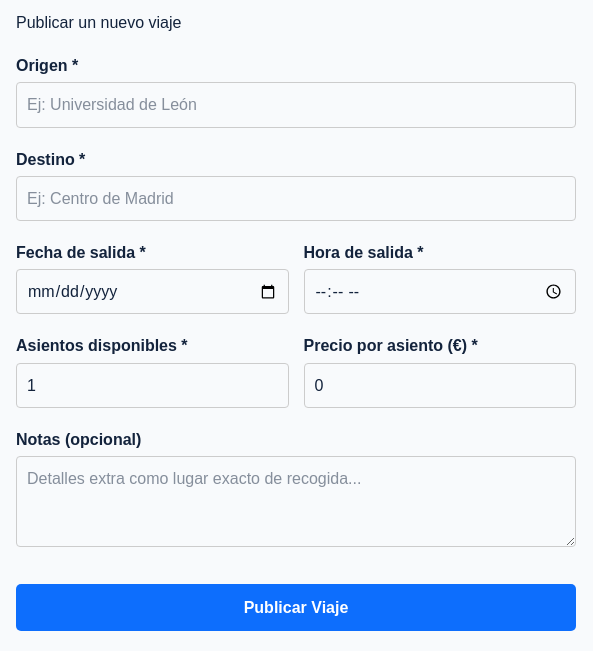
CreateRide › asks the user to log in when there is no session token
Type "Madrid" into the field named "origin" at (296, 105), box [16,82,576,128]
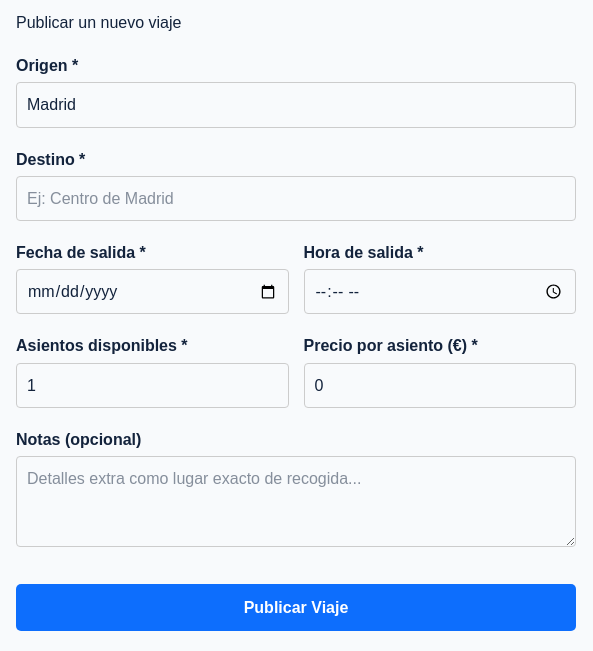
Type "Barcelona" into the field named "destination" at (296, 198), box [16,176,576,221]
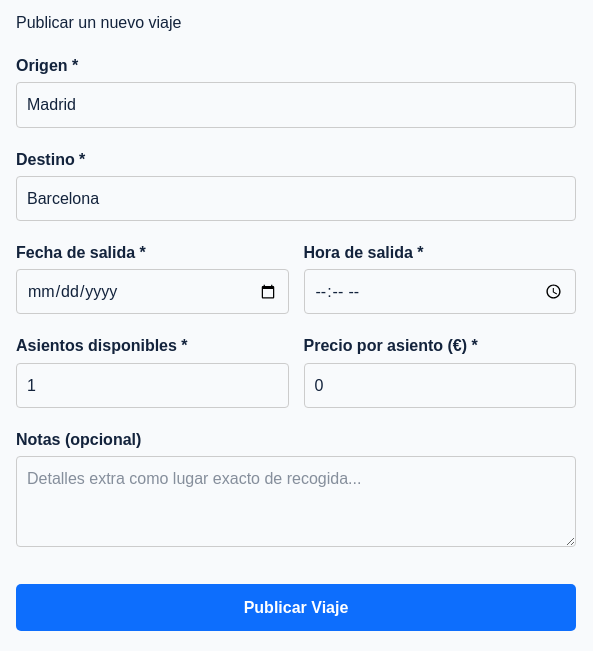
Type "2099-05-20" into the date field named "departureDate" at (152, 292), box [16,269,288,314]
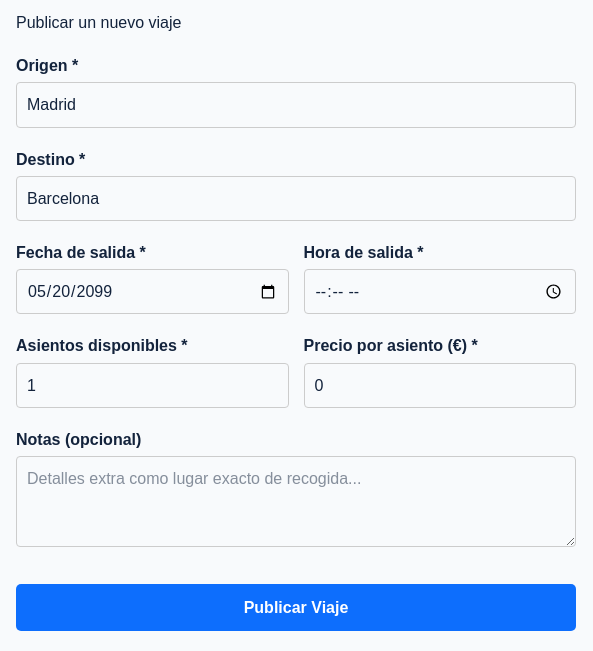
Type "08:30" into the time field named "departureTime" at (440, 292), box [304,269,576,314]
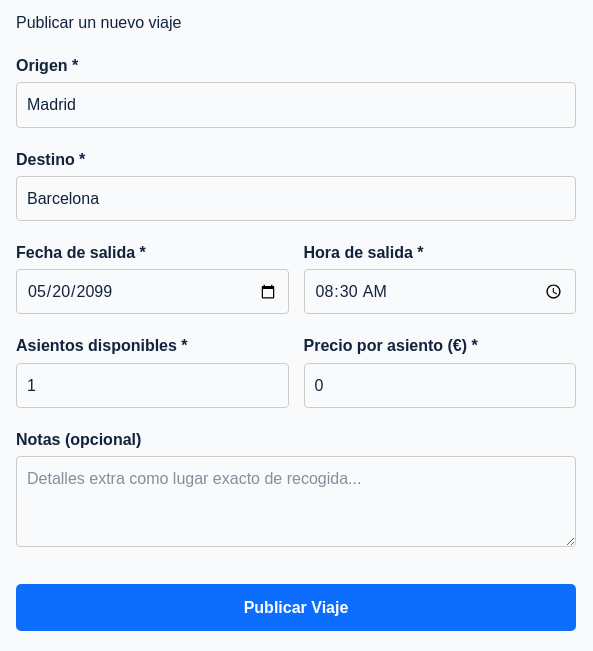
Submit the form
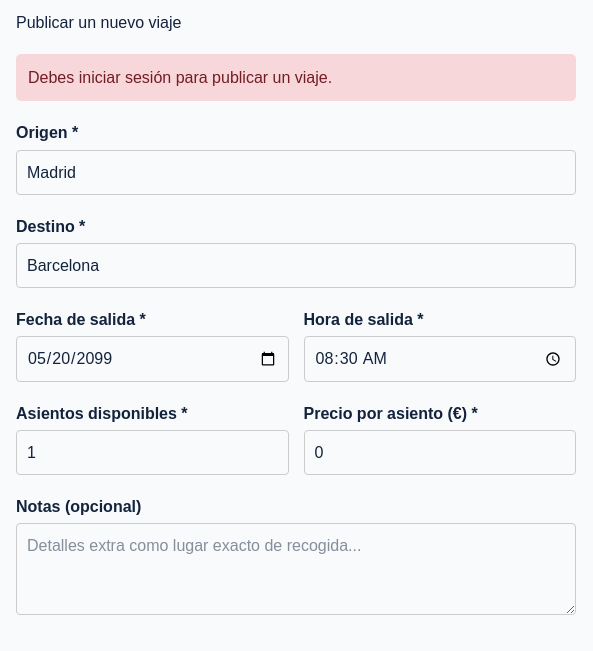
Check: the text "Debes iniciar sesión para publicar un viaje." is shown, box [16,54,576,101]
